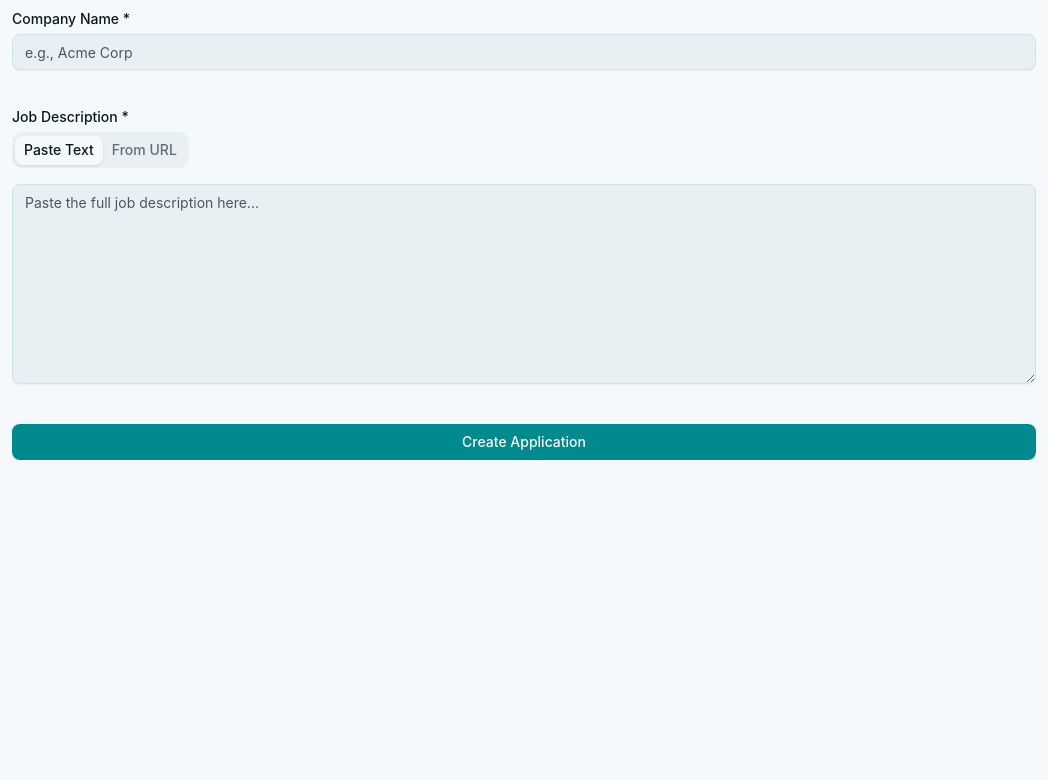
Test case: JobInputForm › URL mode › shows error and paste option on fetch failure
Step 1. Click the tab "From URL" → (144, 150), box [103,136,186,164]
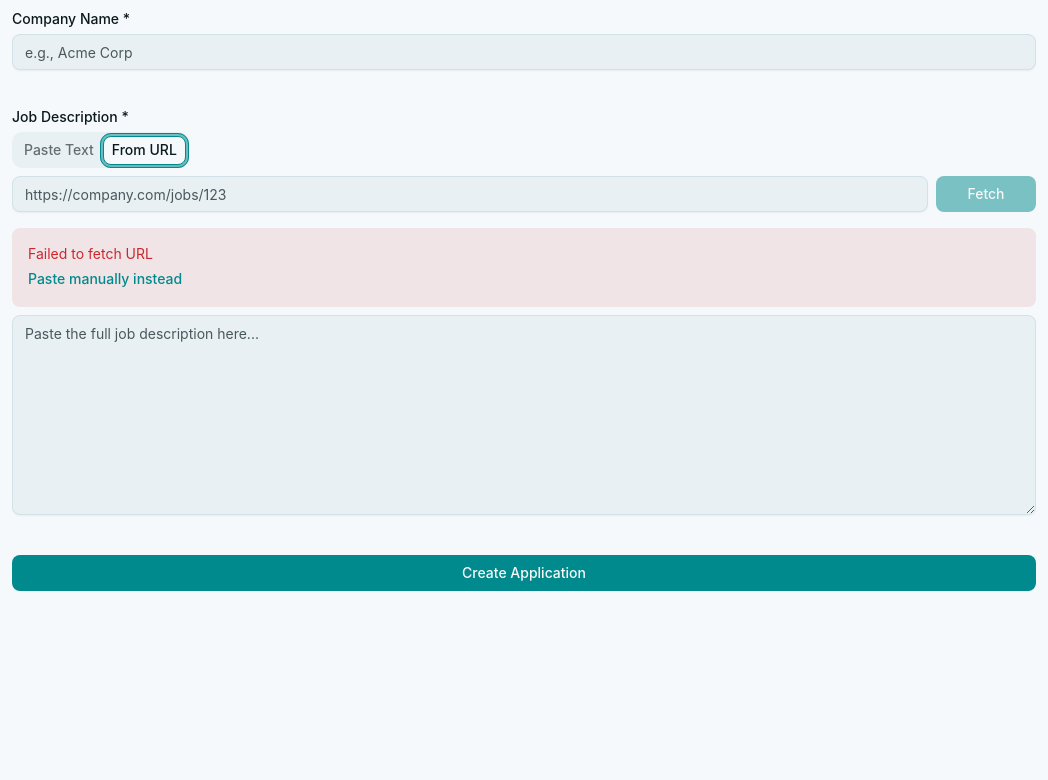
Check: the message "Failed to fetch URL Paste manually instead" is shown, box [12,228,1036,307]
Check: the text "Failed to fetch URL" is shown, box [28,245,153,262]
Check: the button "Paste manually instead" is shown, box [28,269,182,289]
